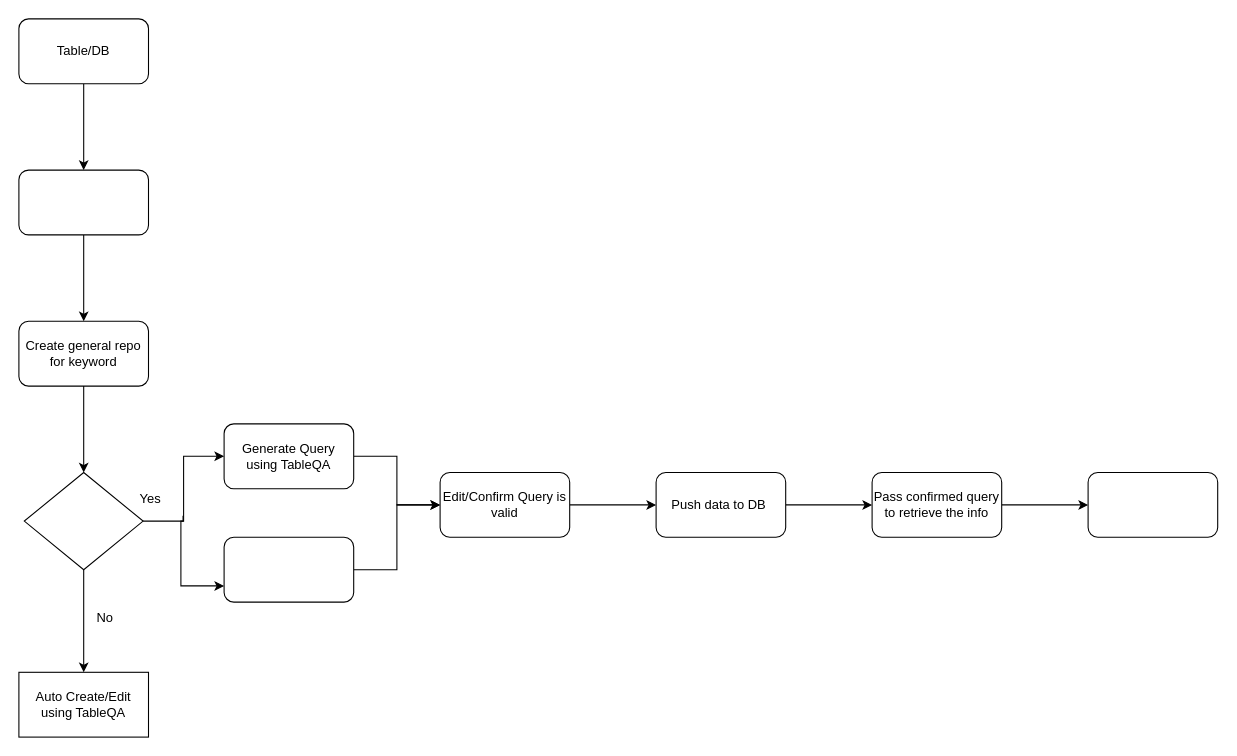
This 1237x756 diagram has some shape labels left out. Each missing label, with the centre of its shape:
"Create & map Schema" goes at (83,520).
"Generate query using Glove" goes at (288,569).
"Prepare metadata about columns" goes at (83,202).
"View the Results" goes at (1152,504).
